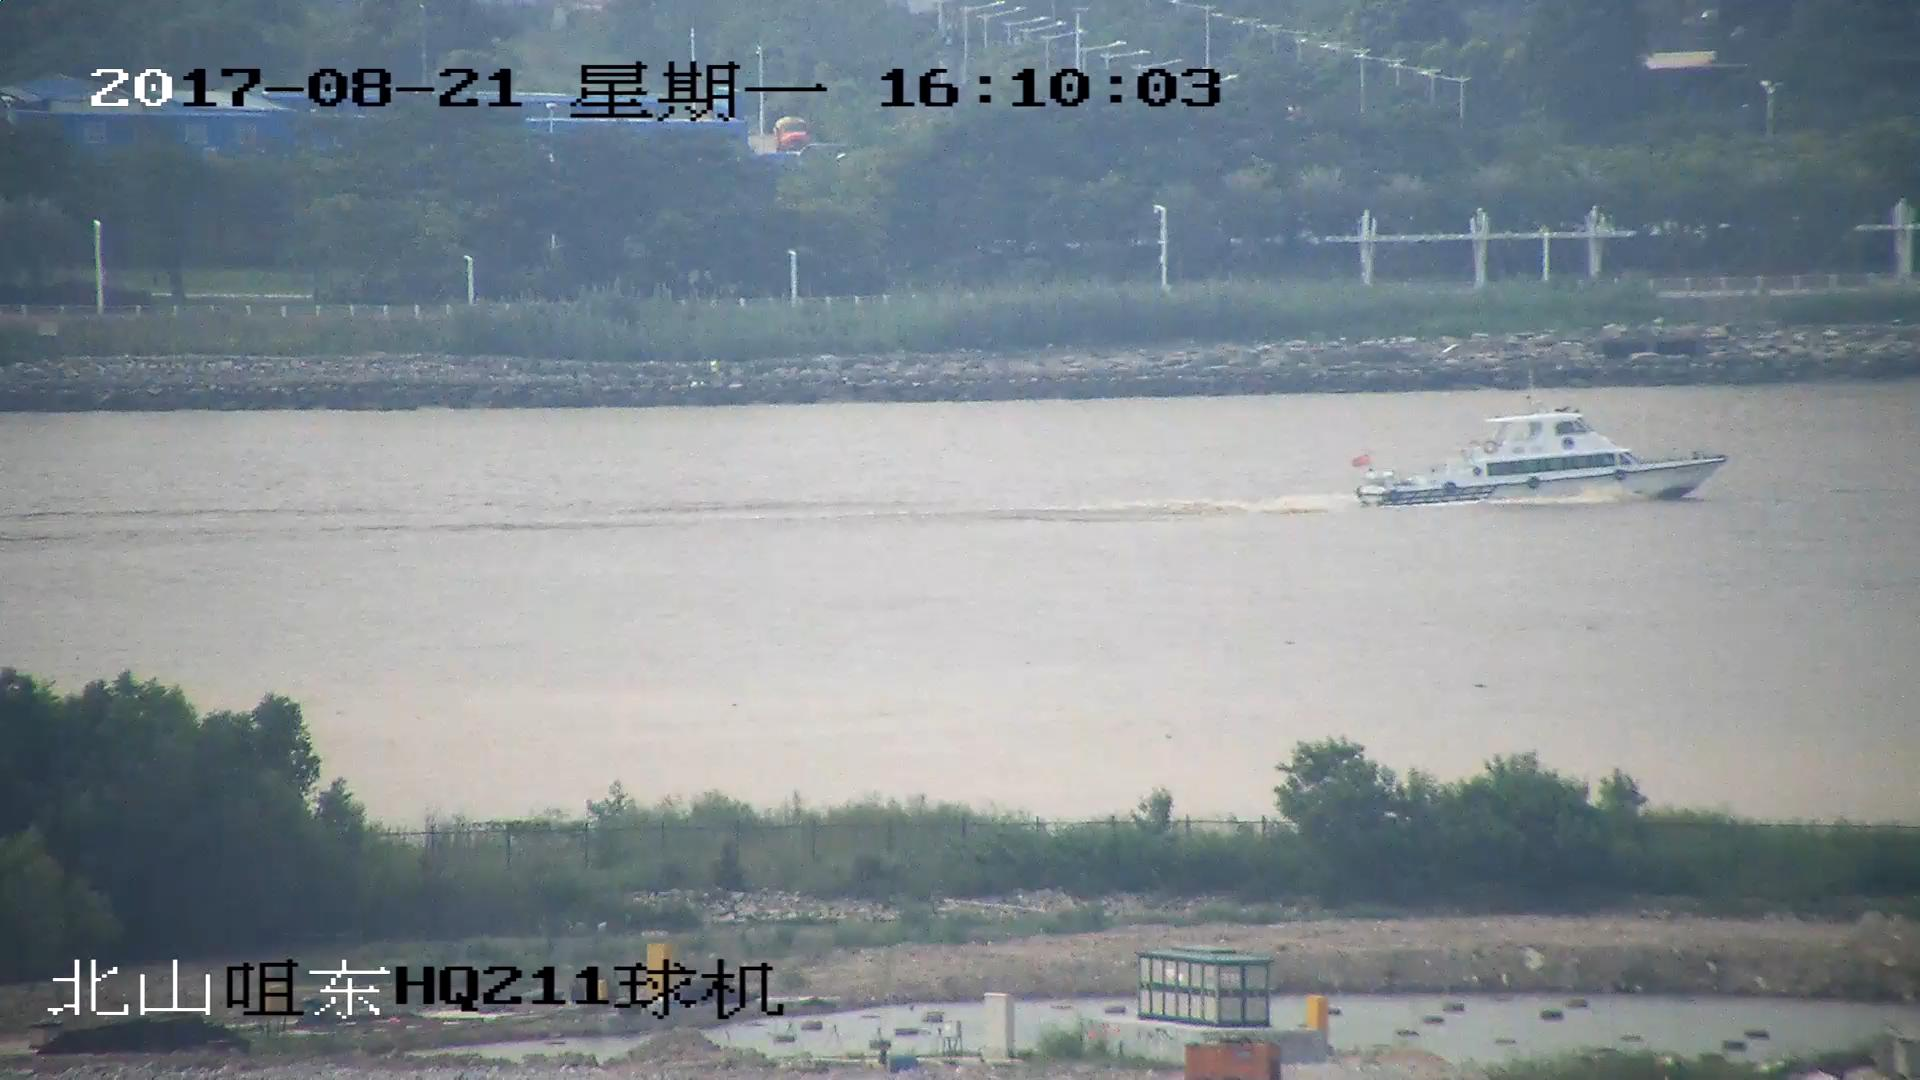passenger ship: (1348, 391, 1726, 511)
